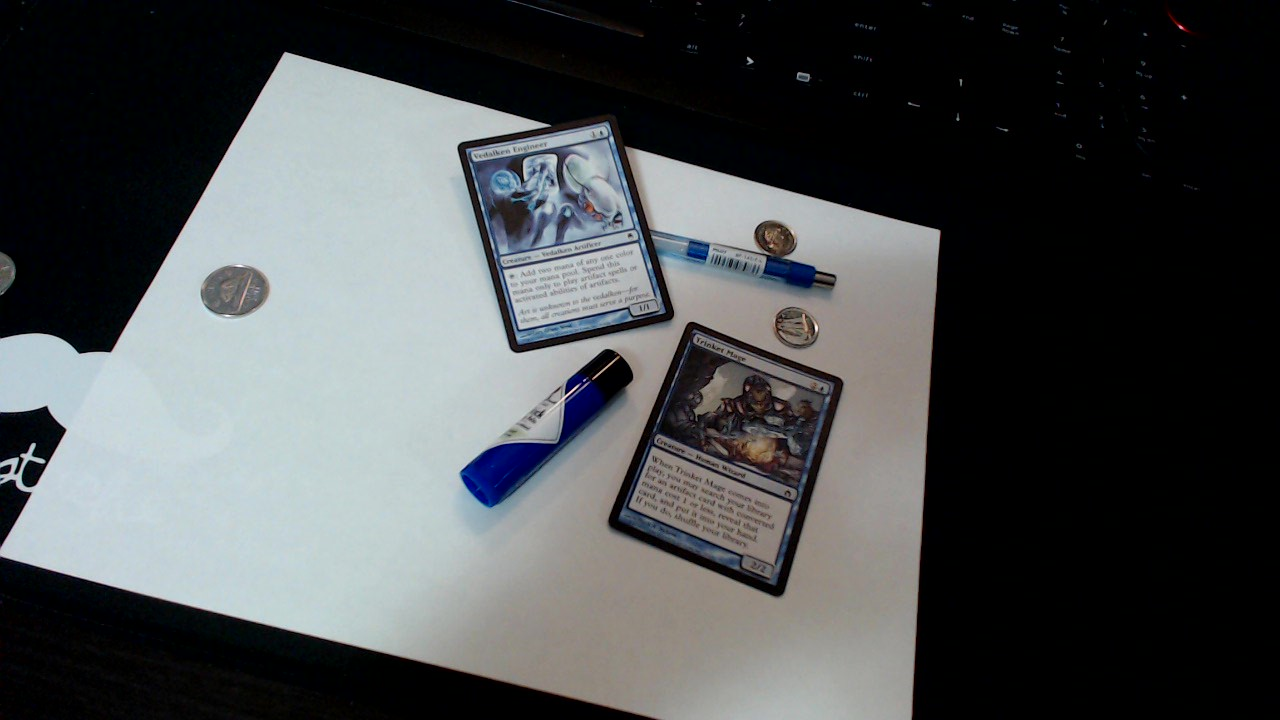MTG Card: (600, 319, 854, 603), (450, 104, 683, 355)
